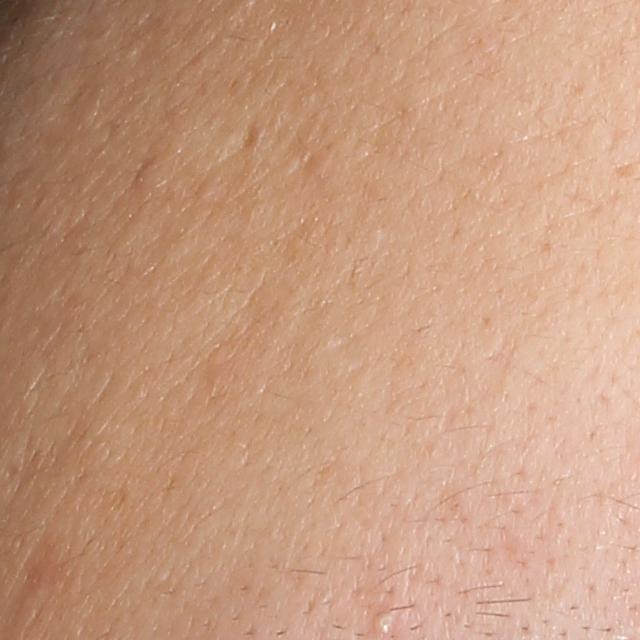pustule: (369, 608, 400, 640)
